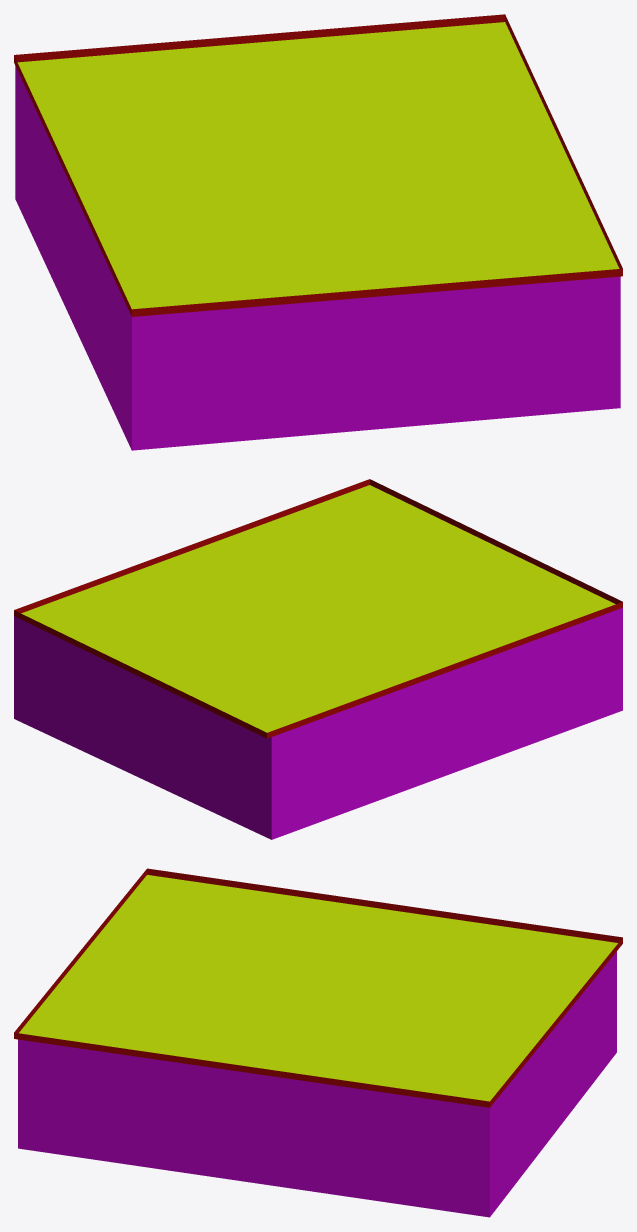
Rendered from rmc_69.glb.
3 views of the same model, one above another, from view 1: azimuth 30°, elevation 25°; view 2: azimuth 150°, elevation 25°; view 3: azimuth 270°, elevation 25° (orthographic). The views are drawn at different scales.
Parts seen in each view (by area): view 1: rmc_69; view 2: rmc_69; view 3: rmc_69.
Boxes of the visible parts, <box> form: rmc_69: <box>14,14,622,450</box>; rmc_69: <box>14,479,622,839</box>; rmc_69: <box>14,868,622,1217</box>.
Bounding box in the file's own units: 27.69 × 6.42 × 30.58.
